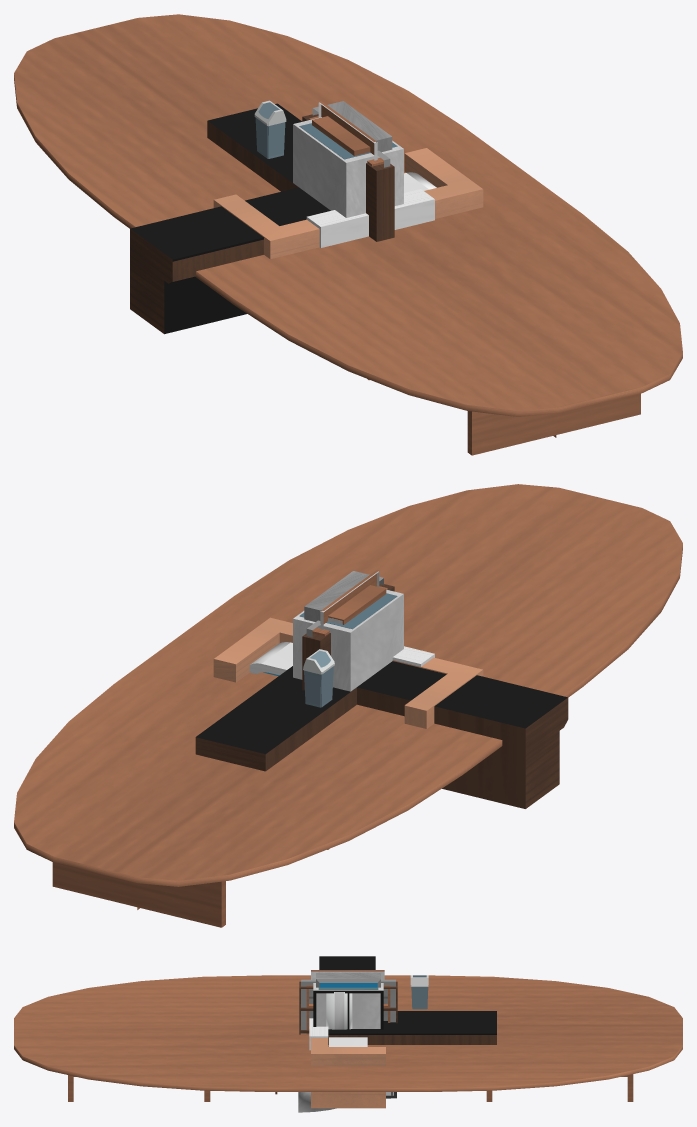
The model's file is allModels.fbx.
3 views of the same model, one above another, from view 1: azimuth 30°, elevation 25°; view 2: azimuth 150°, elevation 25°; view 3: azimuth 270°, elevation 25° (orthographic). The views are drawn at different scales.
Parts seen in each view (by area): view 1: ConfTable, Receipt.001, Receipt.002, Wardrobe, Shelf.001, Door.005, Bin.003, Door; view 2: ConfTable, Receipt.001, Receipt.002, Wardrobe, Door.005, Bin.003, Door, Receipt, Shelf.001; view 3: ConfTable, Receipt.001, Receipt.002, Wardrobe, Door, Vend, Door.001, Bin.003, Receipt, Shelf.001, couch, Shelf.
Boxes of the visible parts, bbox=[...] form: ConfTable: bbox=[14, 14, 682, 455]; Receipt.001: bbox=[130, 103, 330, 334]; Receipt.002: bbox=[213, 148, 483, 259]; Wardrobe: bbox=[293, 117, 403, 217]; Shelf.001: bbox=[302, 114, 394, 241]; Door.005: bbox=[312, 101, 376, 155]; Bin.003: bbox=[254, 100, 286, 158]; Door: bbox=[327, 101, 392, 152]; ConfTable: bbox=[14, 484, 682, 927]; Receipt.001: bbox=[195, 661, 568, 808]; Receipt.002: bbox=[213, 617, 483, 728]; Wardrobe: bbox=[293, 589, 403, 691]; Door.005: bbox=[321, 570, 386, 624]; Bin.003: bbox=[303, 649, 334, 707]; Door: bbox=[304, 571, 369, 621]; Receipt: bbox=[249, 642, 292, 676]; Shelf.001: bbox=[302, 584, 394, 690]; ConfTable: bbox=[14, 975, 682, 1101]; Receipt.001: bbox=[319, 956, 496, 1044]; Receipt.002: bbox=[309, 1018, 385, 1108]; Wardrobe: bbox=[313, 983, 383, 1029]; Door: bbox=[316, 973, 380, 987]; Vend: bbox=[326, 992, 352, 1029]; Door.001: bbox=[301, 979, 395, 1033]; Bin.003: bbox=[410, 975, 428, 1009]; Receipt: bbox=[329, 1037, 367, 1046]; Shelf.001: bbox=[299, 981, 397, 1034]; couch: bbox=[298, 1092, 336, 1112]; Shelf: bbox=[306, 985, 390, 1034].
Bounding box in the file's own units: 6072 × 2991 × 14261.
Materials: 42 (35 with a texture image).
